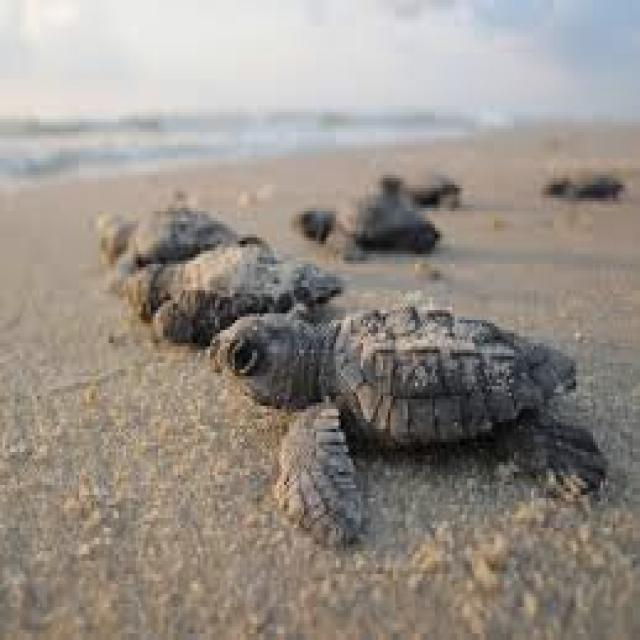turtle: (101, 205, 605, 541), (348, 175, 460, 251), (544, 172, 620, 198)
